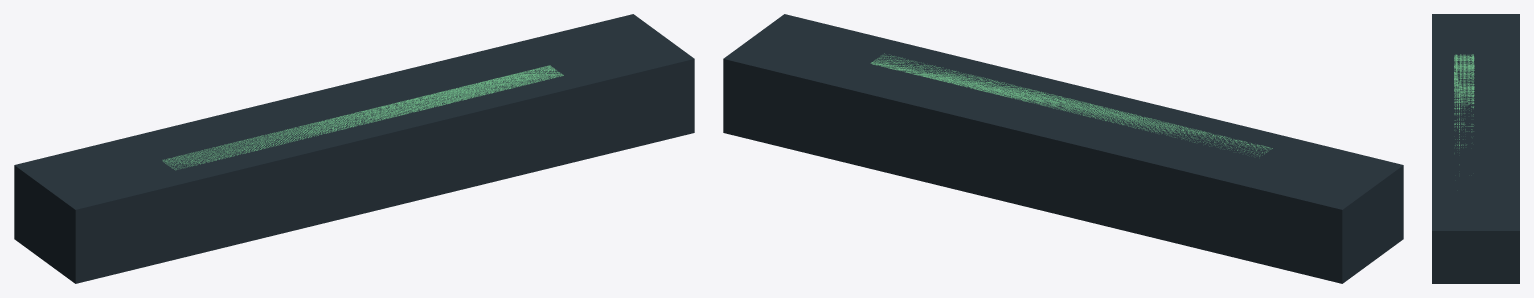
3 views of the same model, side by side, from view 1: azimuth 30°, elevation 25°; view 2: azimuth 150°, elevation 25°; view 3: azimuth 270°, elevation 25° (orthographic). The views are drawn at different scales.
Visible parts, largest first — view 1: strip-body, usb-rail; view 2: strip-body, usb-rail; view 3: strip-body, usb-rail.
Part boxes in pixels (x1=…): strip-body: x1=14, y1=14, x2=694, y2=283; usb-rail: x1=162, y1=65, x2=563, y2=170; strip-body: x1=723, y1=14, x2=1403, y2=283; usb-rail: x1=870, y1=53, x2=1272, y2=156; strip-body: x1=1432, y1=14, x2=1519, y2=283; usb-rail: x1=1454, y1=54, x2=1474, y2=164.
Bounding box in the file's own units: 0.35 × 0.04 × 0.06.
